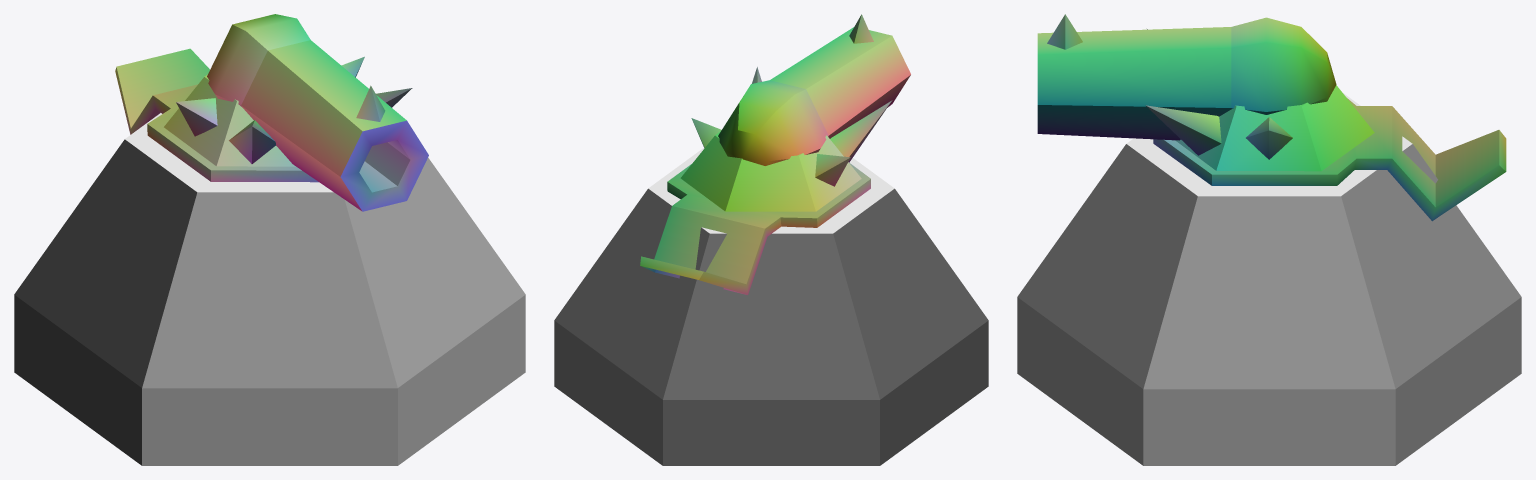
File: Turret.fbx
The picture shows the model from 3 angles, left to right: view 1: azimuth 30°, elevation 25°; view 2: azimuth 150°, elevation 25°; view 3: azimuth 270°, elevation 25°; orthographic projection. The views are drawn at different scales.
Visible parts, largest first — view 1: TurretBase, Cannon, Tower; view 2: TurretBase, Tower, Cannon; view 3: TurretBase, Cannon, Tower.
Part boxes in pixels (x1,y1,x2,y2): TurretBase: (14, 113, 525, 465); Cannon: (207, 14, 428, 211); Tower: (115, 48, 412, 182); TurretBase: (554, 148, 988, 465); Tower: (640, 67, 892, 294); Cannon: (718, 14, 910, 165); TurretBase: (1017, 92, 1521, 465); Cannon: (1037, 14, 1336, 140); Tower: (1145, 28, 1506, 221).
Size of the model in its own units: 346 by 314 by 400.
